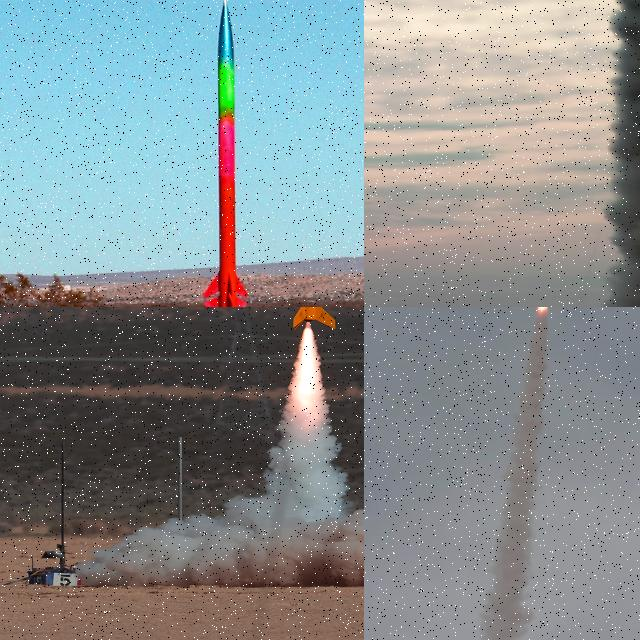Rocket: (200, 0, 250, 307)
